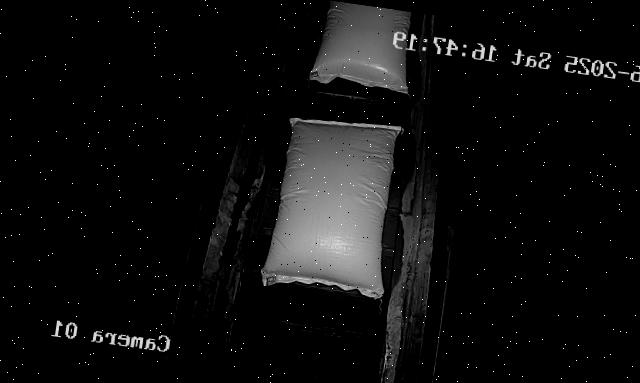bag: (259, 109, 406, 301), (308, 0, 421, 95)
